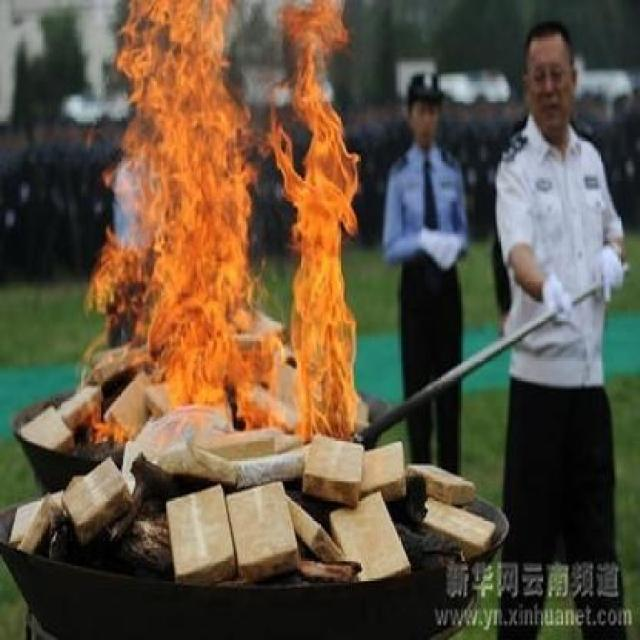Fire: (96, 4, 358, 458)
